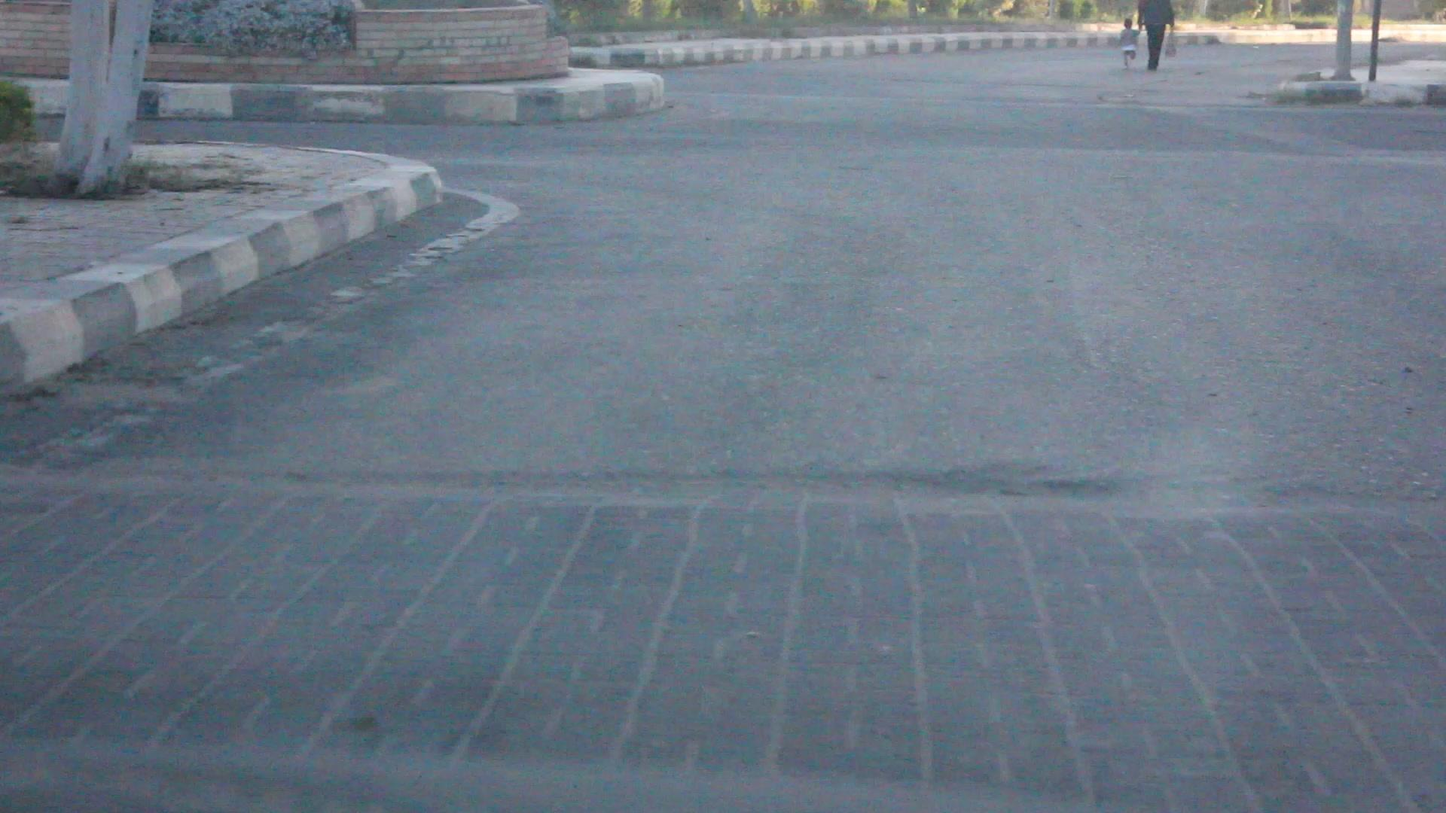Bump: (0, 455, 1446, 753)
